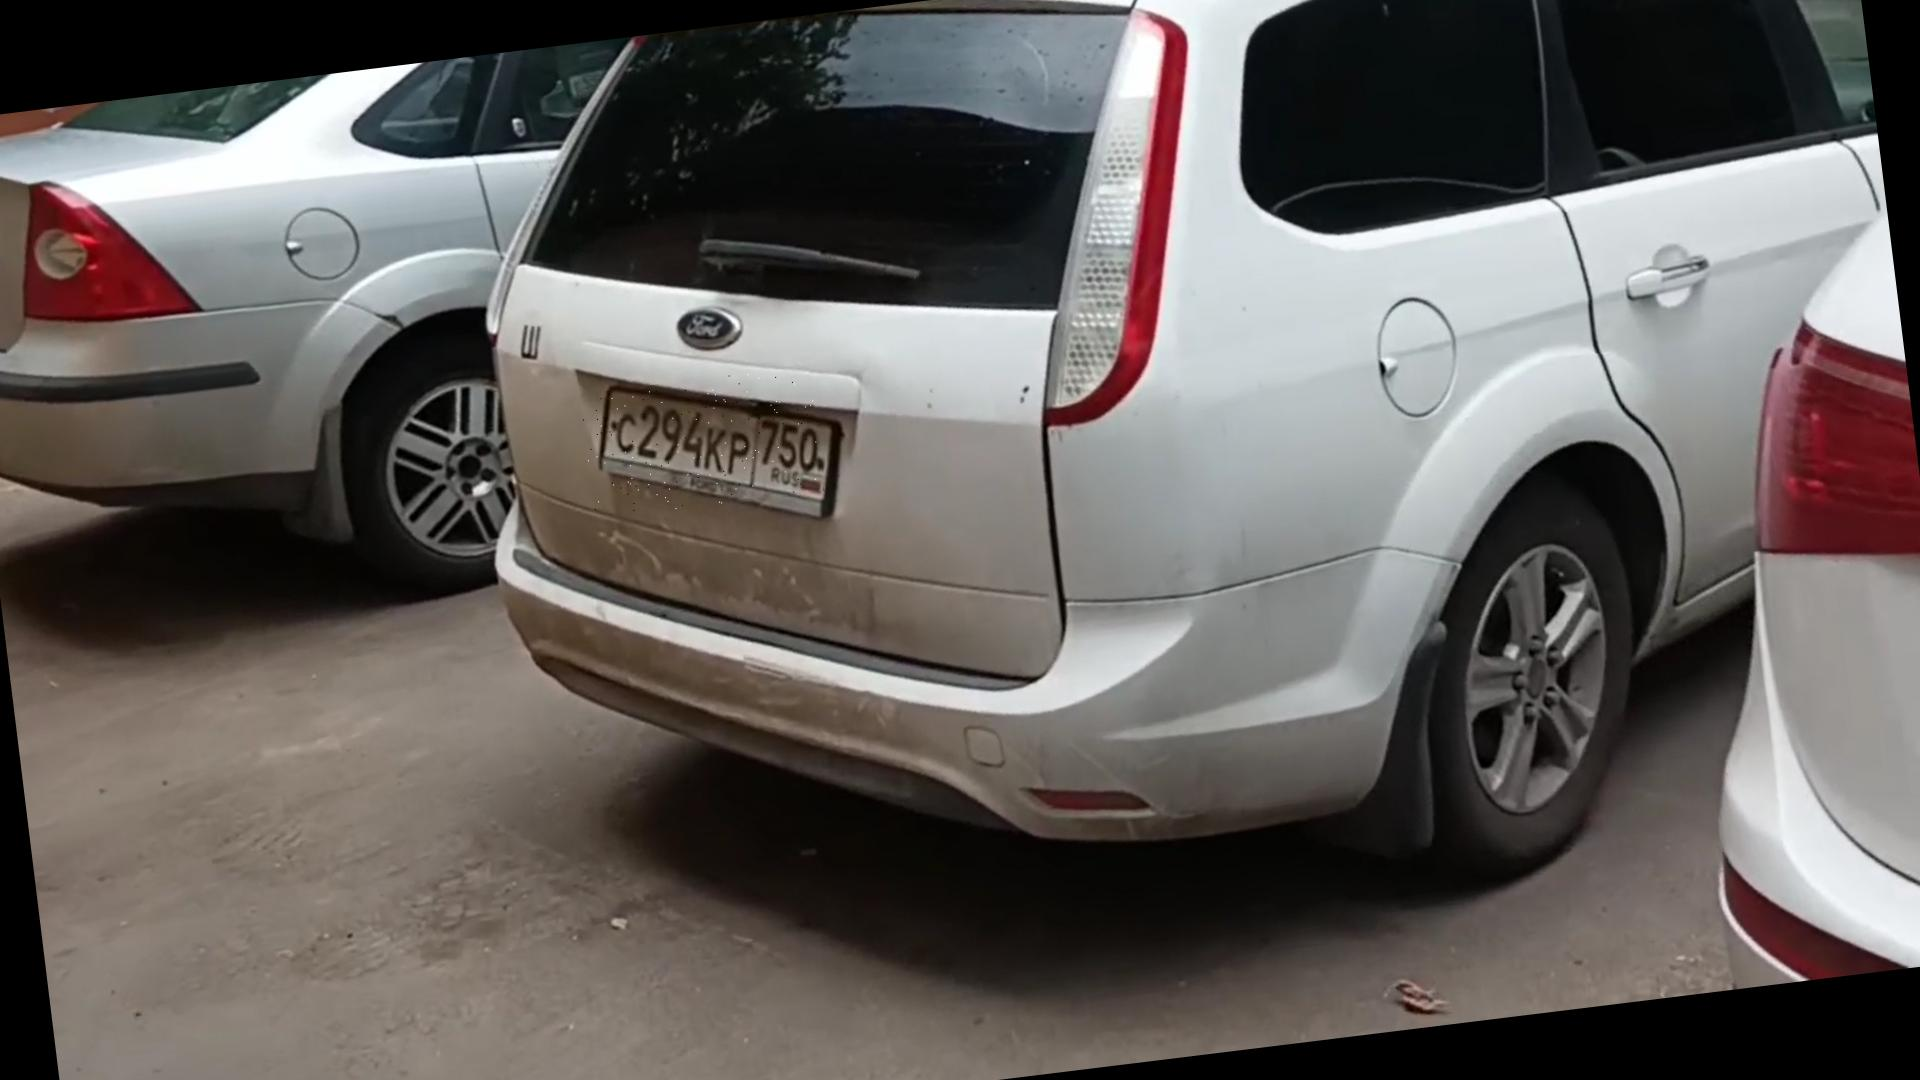plate: (582, 367, 826, 520)
